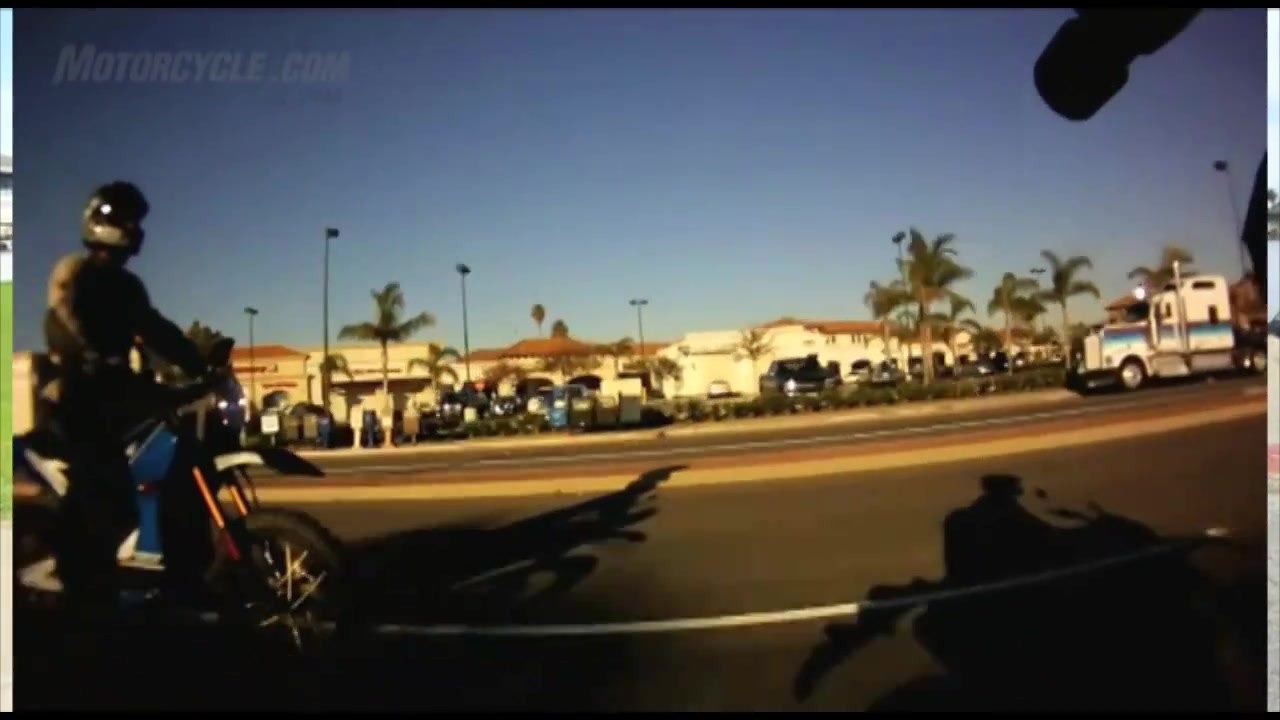motorbike: (4, 373, 368, 680)
